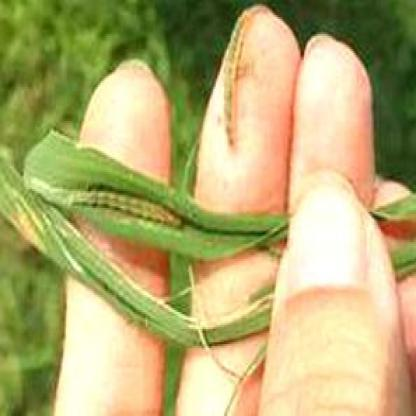leaf-folder: (30, 174, 224, 257), (206, 1, 262, 152)
